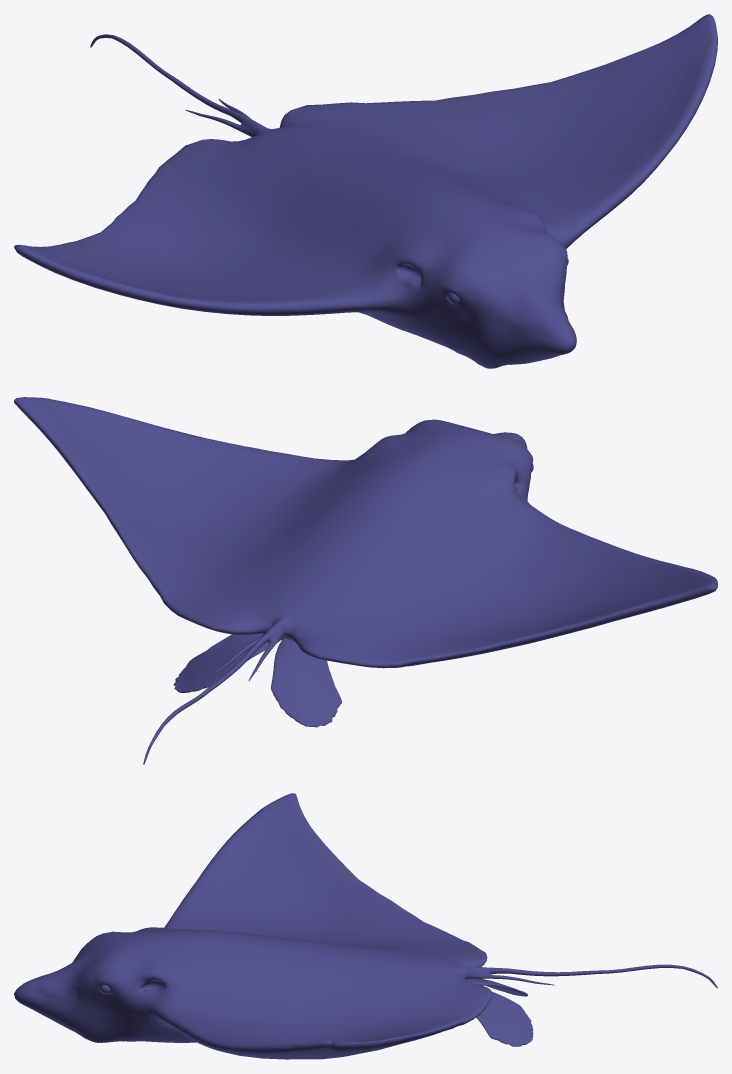
File: Stingray.fbx
The picture shows the model from 3 angles, top to bottom: view 1: azimuth 30°, elevation 25°; view 2: azimuth 150°, elevation 25°; view 3: azimuth 270°, elevation 25°; orthographic projection. The views are drawn at different scales.
Visible parts, largest first — view 1: stingray; view 2: stingray; view 3: stingray.
Part boxes in pixels (bbox=[...]): stingray: bbox=[14, 14, 717, 368]; stingray: bbox=[14, 397, 717, 764]; stingray: bbox=[14, 793, 717, 1059].
Bounding box in the file's own units: 5639 × 1205 × 5967.
